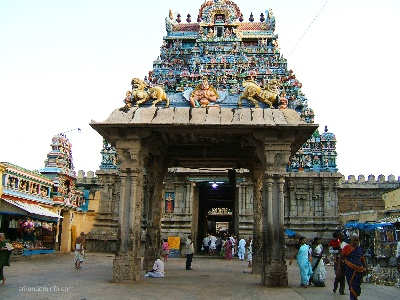gopura: (122, 12, 332, 124)
mandapa: (77, 102, 314, 281)
